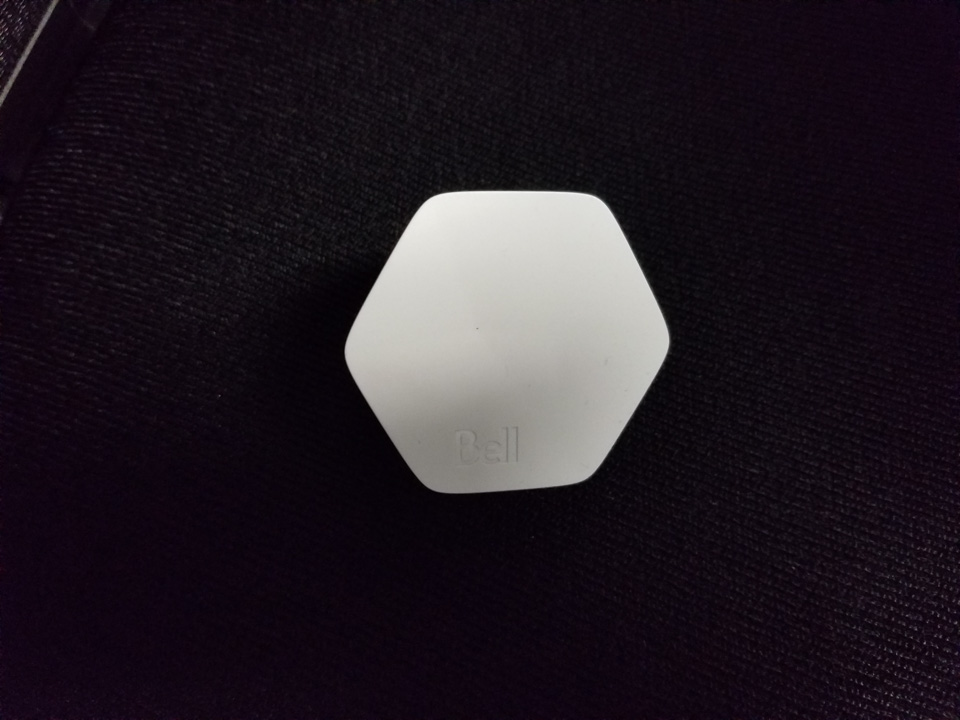pod: (336, 187, 679, 504)
